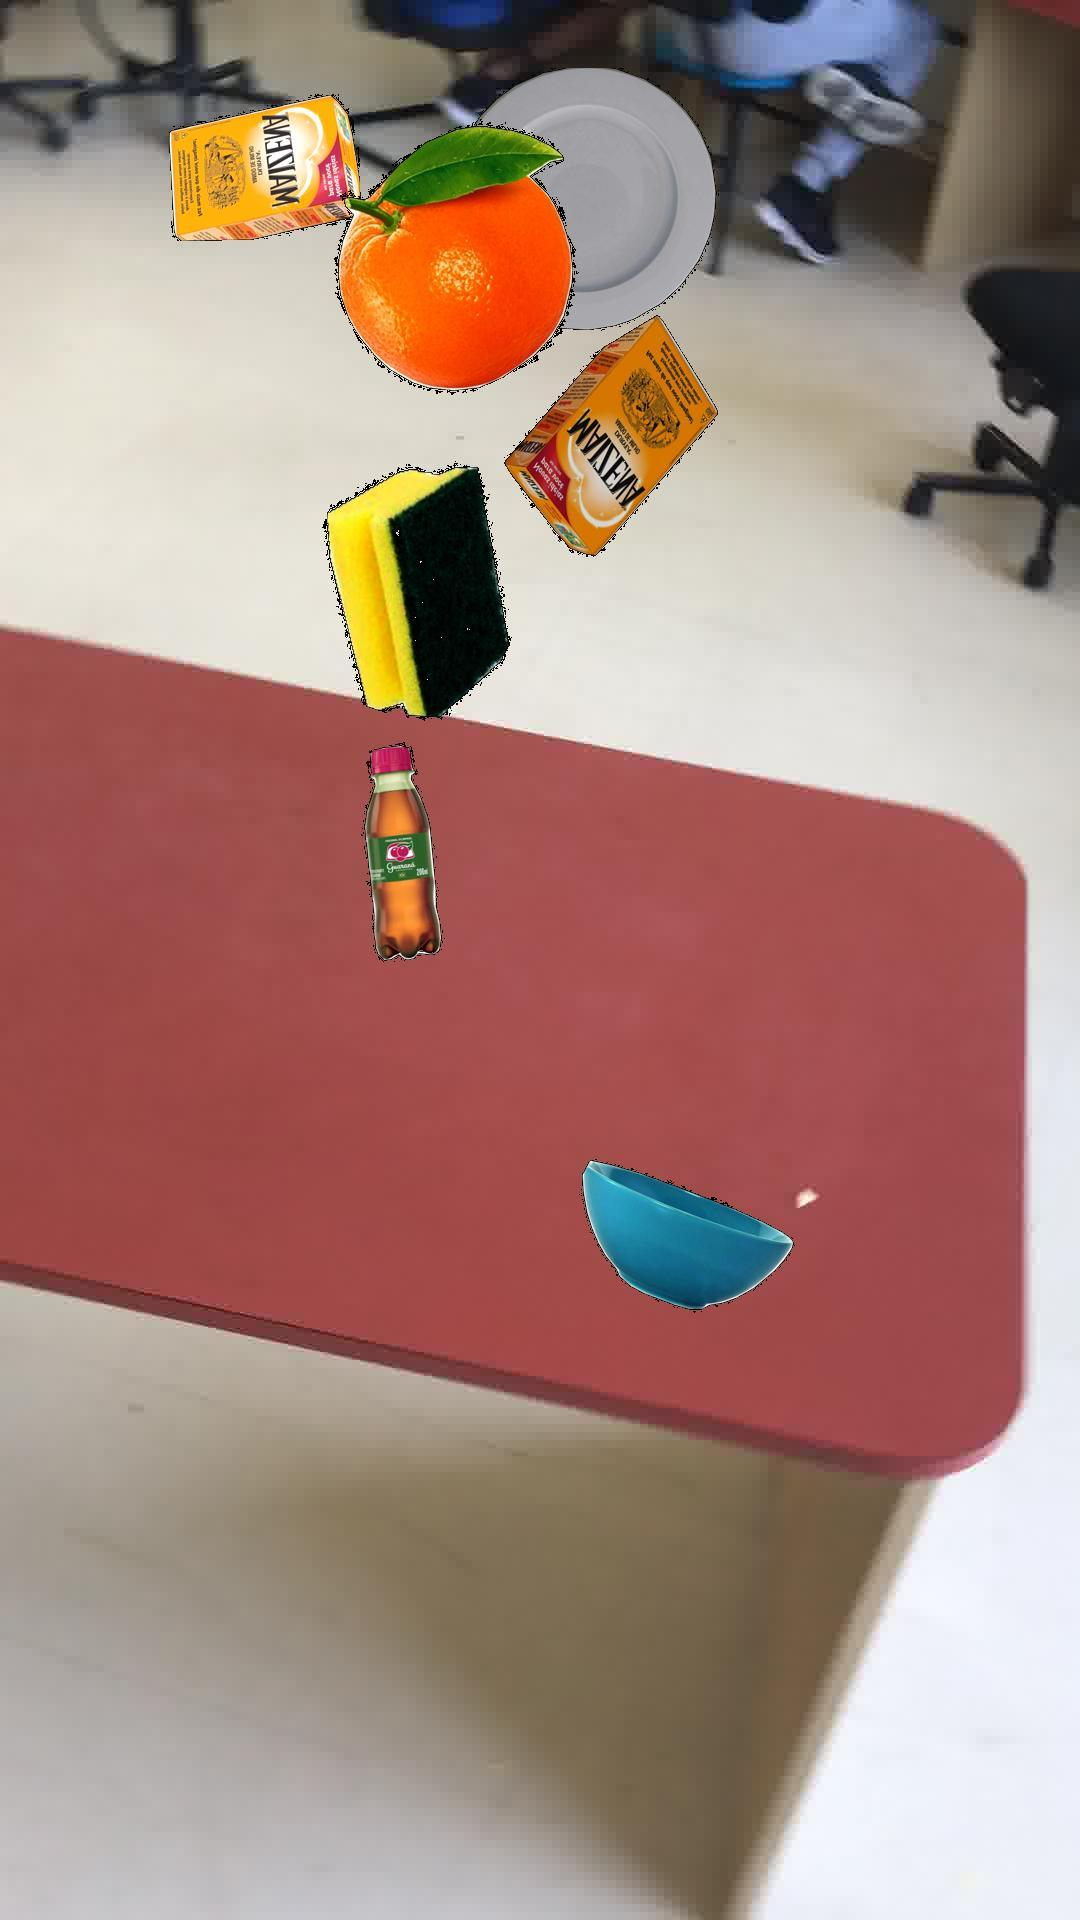bowl: (580, 1159, 793, 1308)
guarana: (363, 741, 440, 960)
orange: (332, 120, 575, 392)
plate: (475, 66, 716, 328)
sponge: (320, 462, 509, 720)
